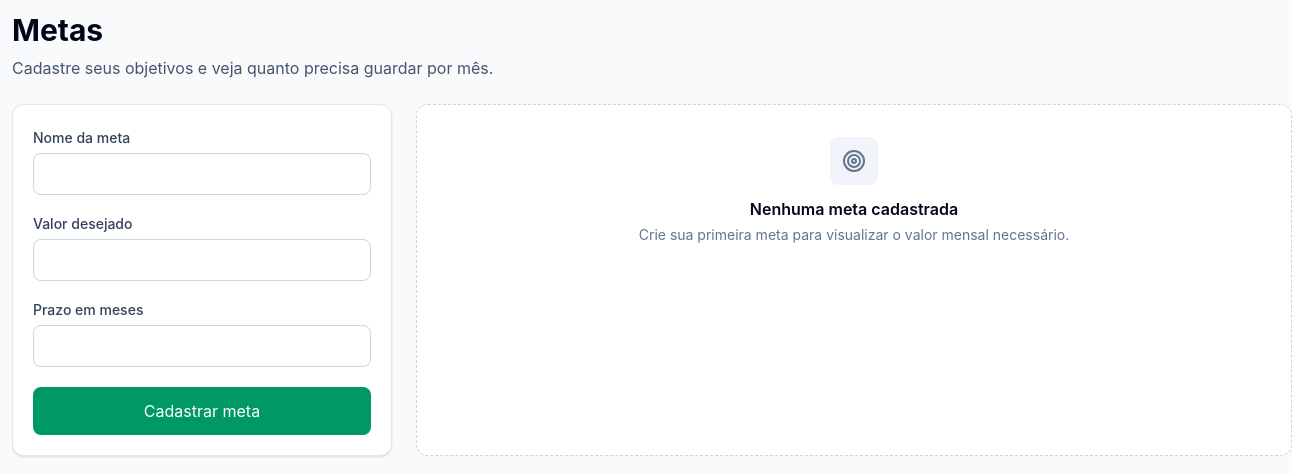
it: Goals › adiciona nova meta ao submeter o formulário
The width and height of the screenshot is (1292, 474).
Type "Viagem" into the field labelled "Nome da meta" at (202, 174), box [33,153,371,195]
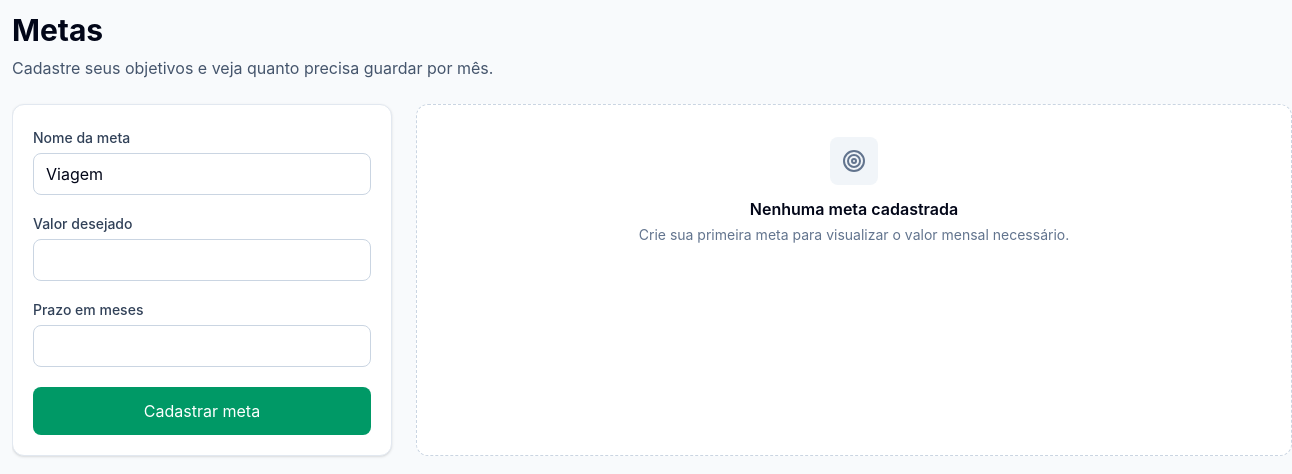
Type "10000" into the number field labelled "Valor desejado" at (202, 260), box [33,239,371,281]
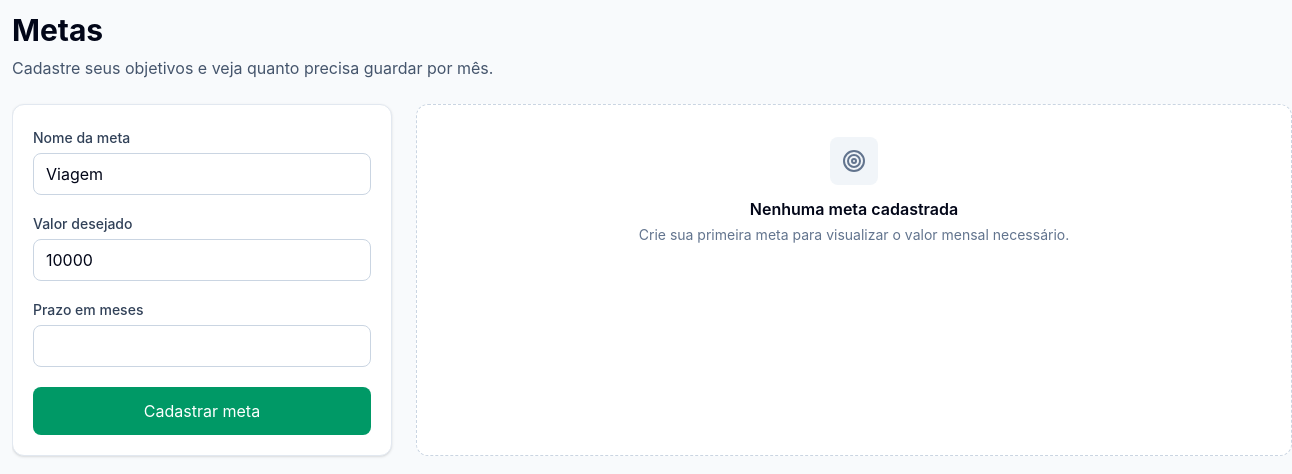
Type "12" into the number field labelled "Prazo em meses" at (202, 346), box [33,325,371,367]
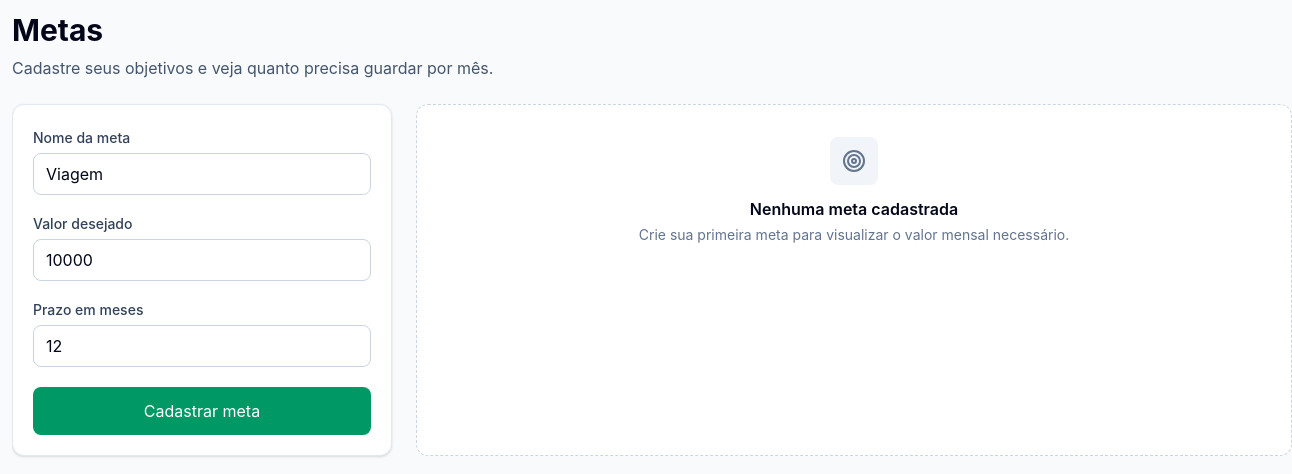
Click the button "Cadastrar meta" at (202, 411), box [33,387,371,435]
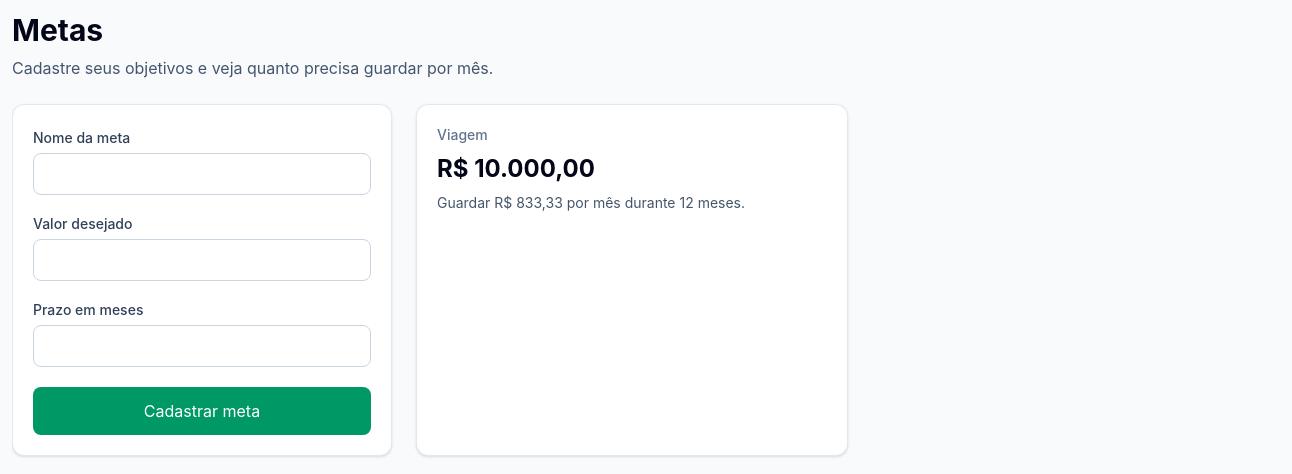
Result: the text "Viagem" is shown at [437,126,488,143]
